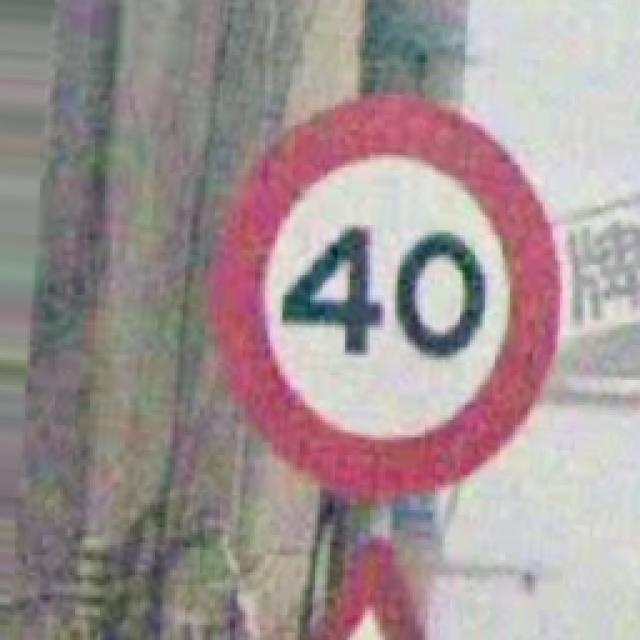Speed Limit -40-: (212, 98, 560, 500)
